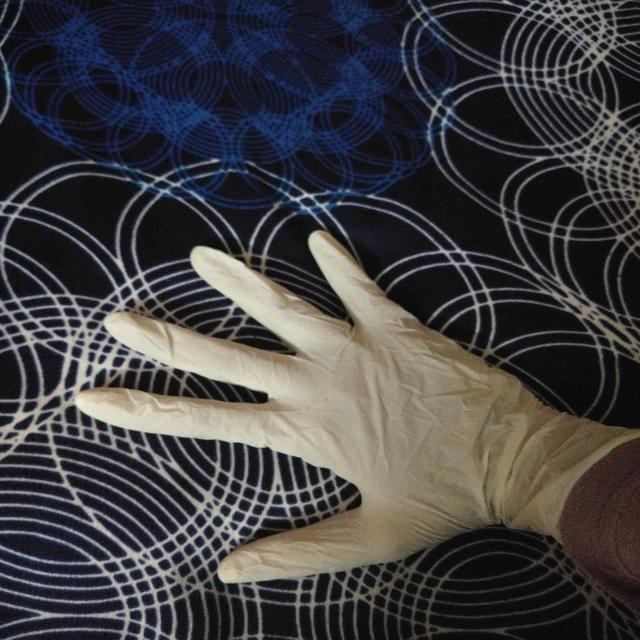glove: (73, 223, 637, 599)
